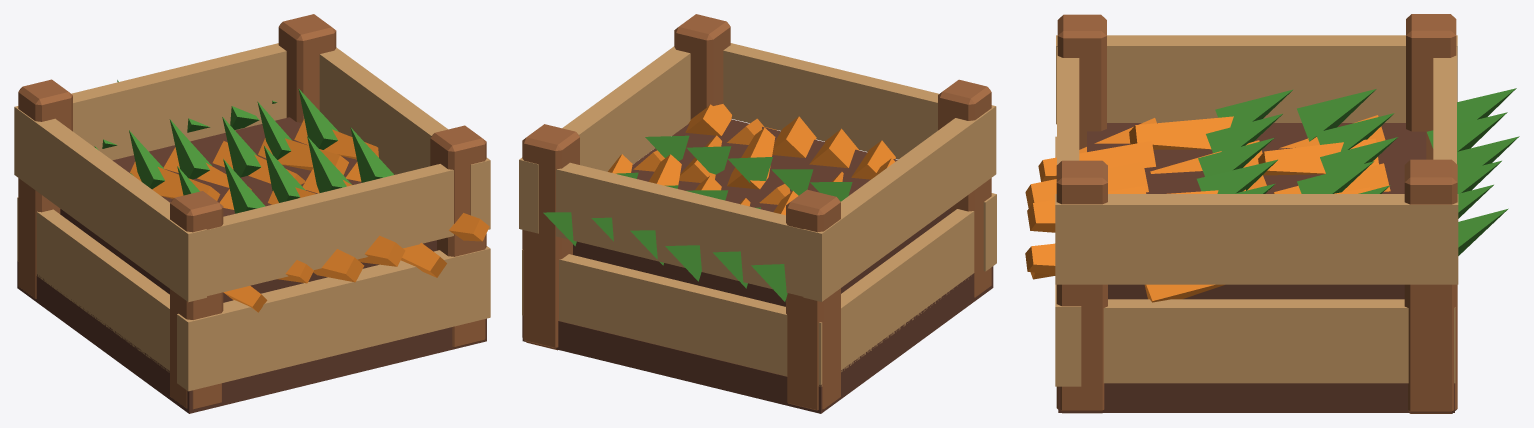
Rendered from Crate_Carrot.fbx.
3 views of the same model, side by side, from view 1: azimuth 30°, elevation 25°; view 2: azimuth 150°, elevation 25°; view 3: azimuth 270°, elevation 25° (orthographic). The views are drawn at different scales.
Parts seen in each view (by area): view 1: Crate_Carrot; view 2: Crate_Carrot; view 3: Crate_Carrot.
Boxes of the visible parts, x1,y1,x2,y2 form: Crate_Carrot: (14,14,490,413); Crate_Carrot: (519,14,996,413); Crate_Carrot: (1025,14,1519,413).
Bounding box in the file's own units: 0.7162 × 0.464 × 0.8788.
